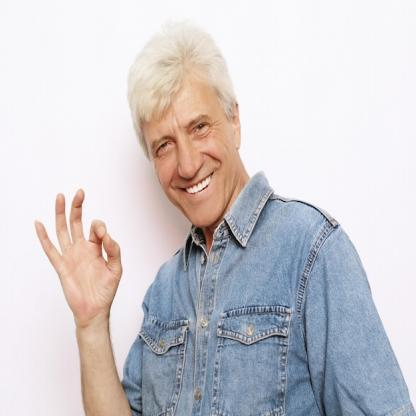ok: (32, 189, 126, 325)
